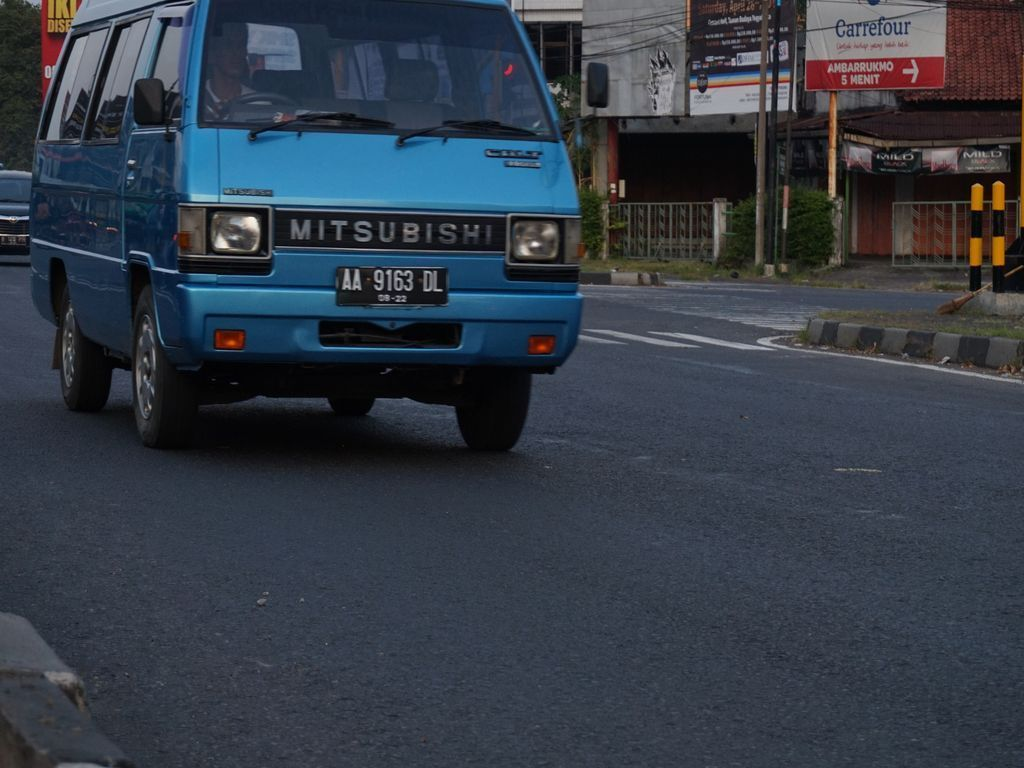plate: (341, 269, 444, 302)
